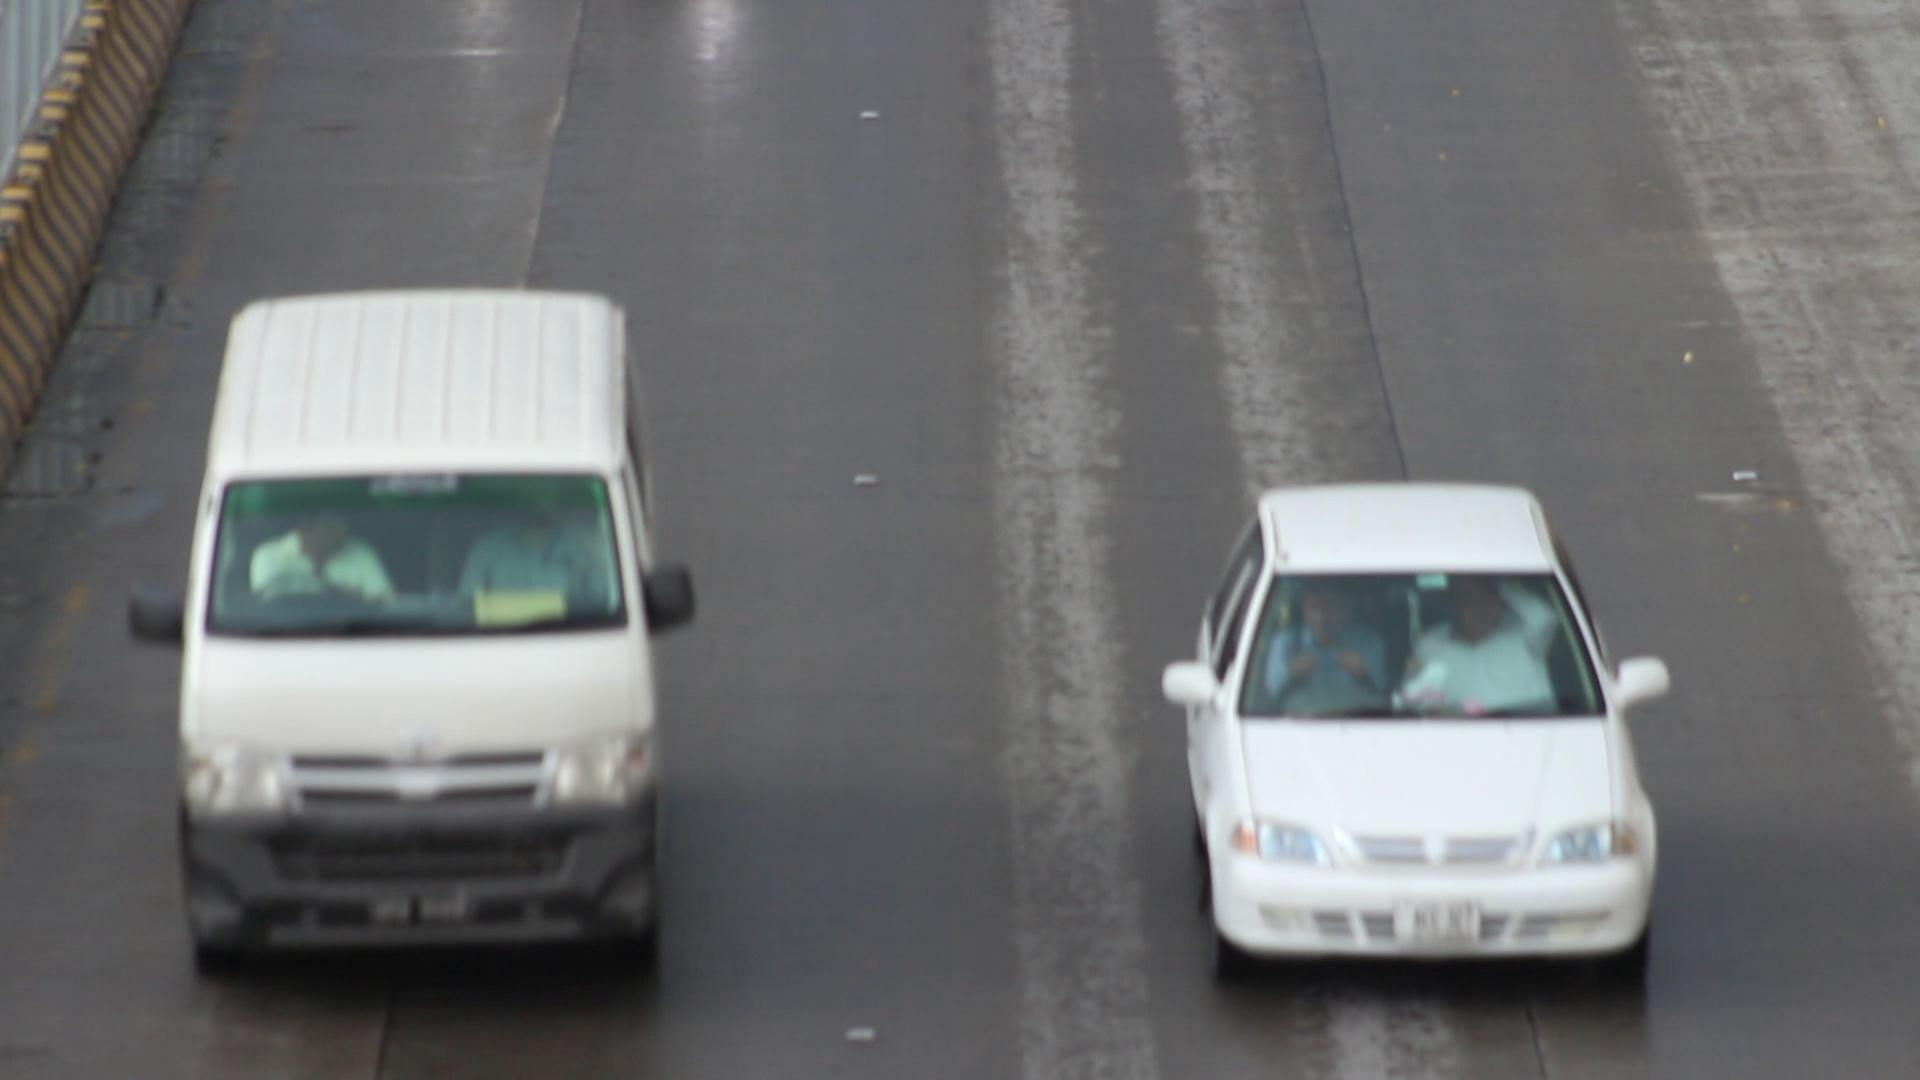windshield: (187, 454, 641, 653), (1224, 554, 1621, 727)
